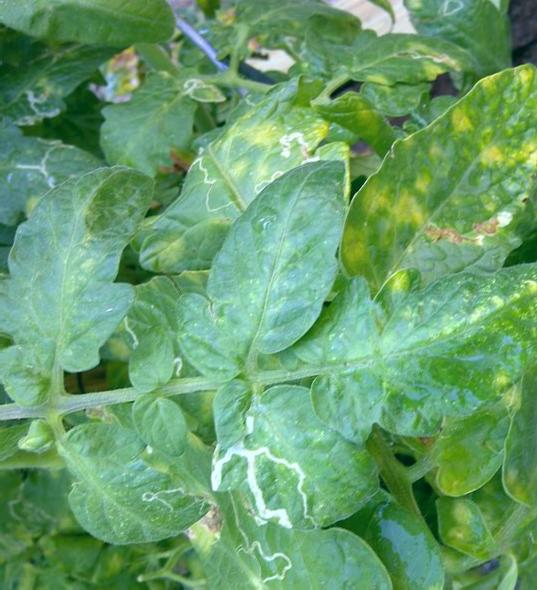Tomato mold leaf: (342, 59, 537, 311), (290, 261, 537, 447), (0, 136, 175, 394), (186, 153, 361, 366), (51, 413, 219, 555)
